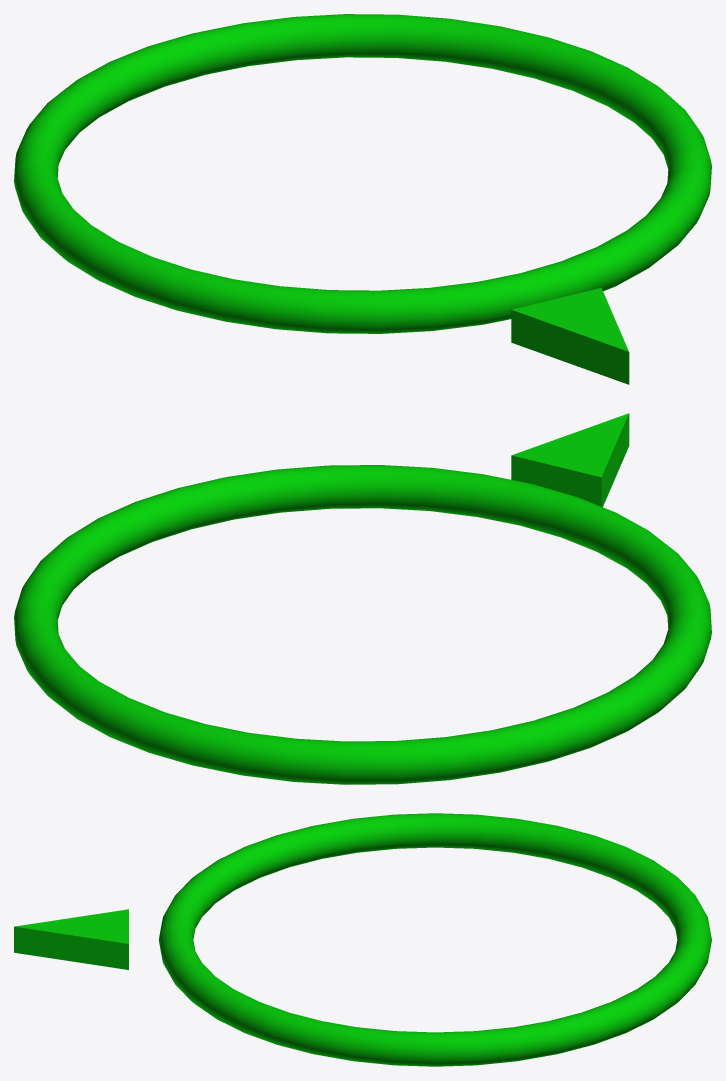
File: Ring2.fbx
The picture shows the model from 3 angles, top to bottom: view 1: azimuth 30°, elevation 25°; view 2: azimuth 150°, elevation 25°; view 3: azimuth 270°, elevation 25°; orthographic projection. The views are drawn at different scales.
Parts seen in each view (by area): view 1: mqo_mesh; view 2: mqo_mesh; view 3: mqo_mesh.
Boxes of the visible parts, left/top/right/bottom form: mqo_mesh: left=14, top=14, right=711, bottom=384; mqo_mesh: left=14, top=413, right=711, bottom=784; mqo_mesh: left=14, top=813, right=711, bottom=1066.
Bounding box in the file's own units: 240 × 15 × 303.
